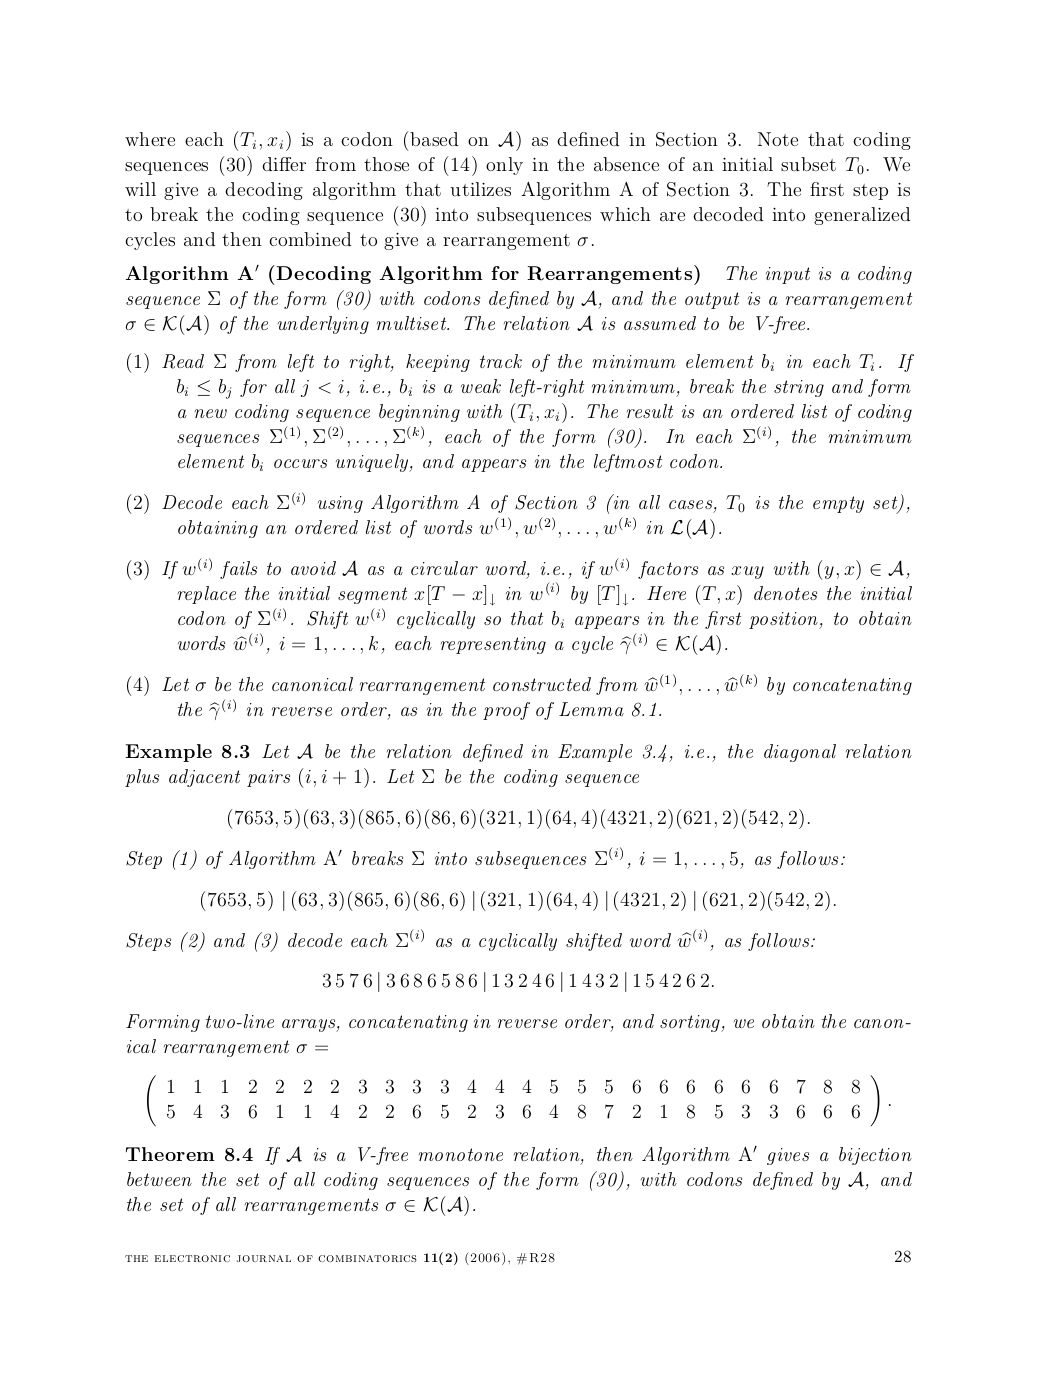formula: (147, 1074, 890, 1127), (201, 890, 835, 911), (228, 808, 809, 829), (322, 971, 713, 992)
